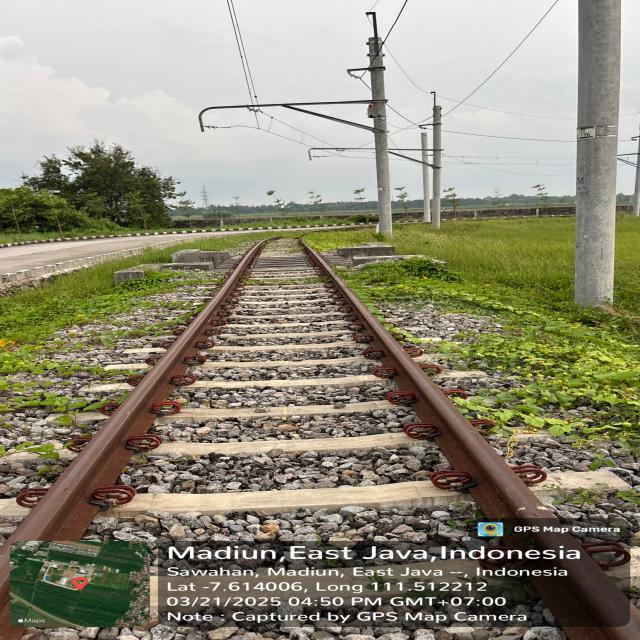rail-detection: (304, 244, 640, 640), (0, 243, 260, 607)
